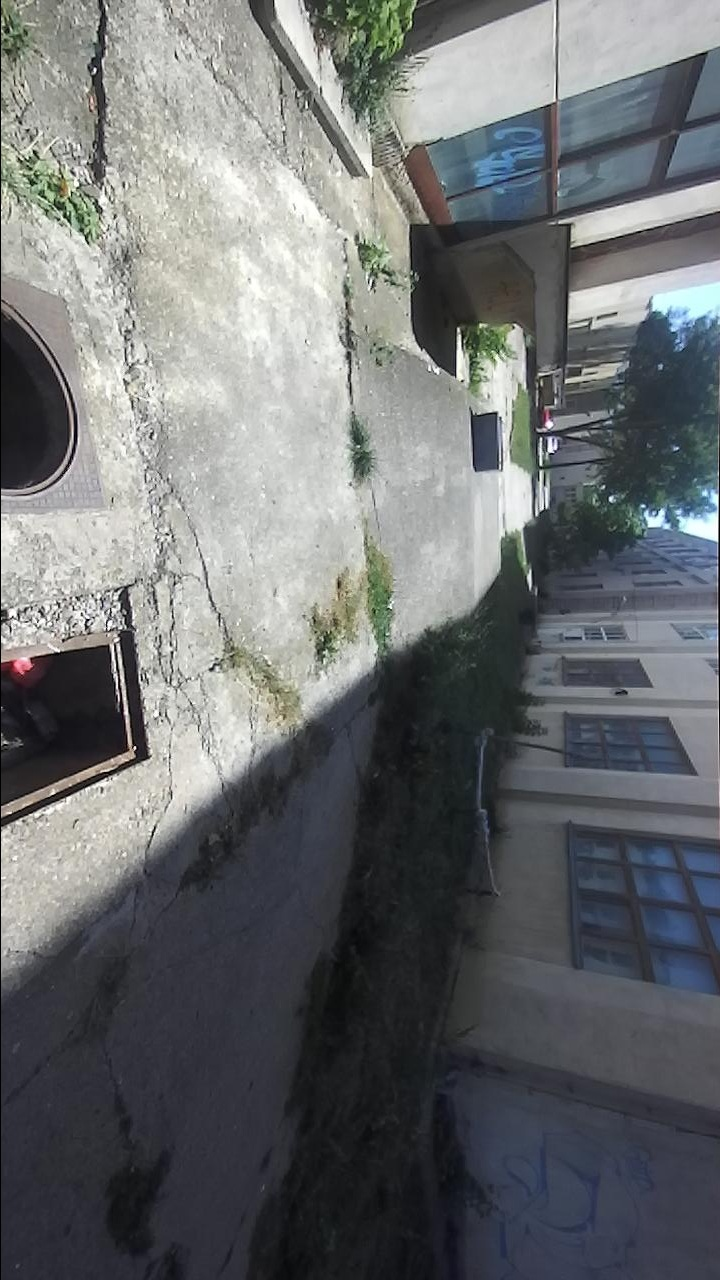drain: (0, 588, 151, 842), (1, 296, 83, 495)
